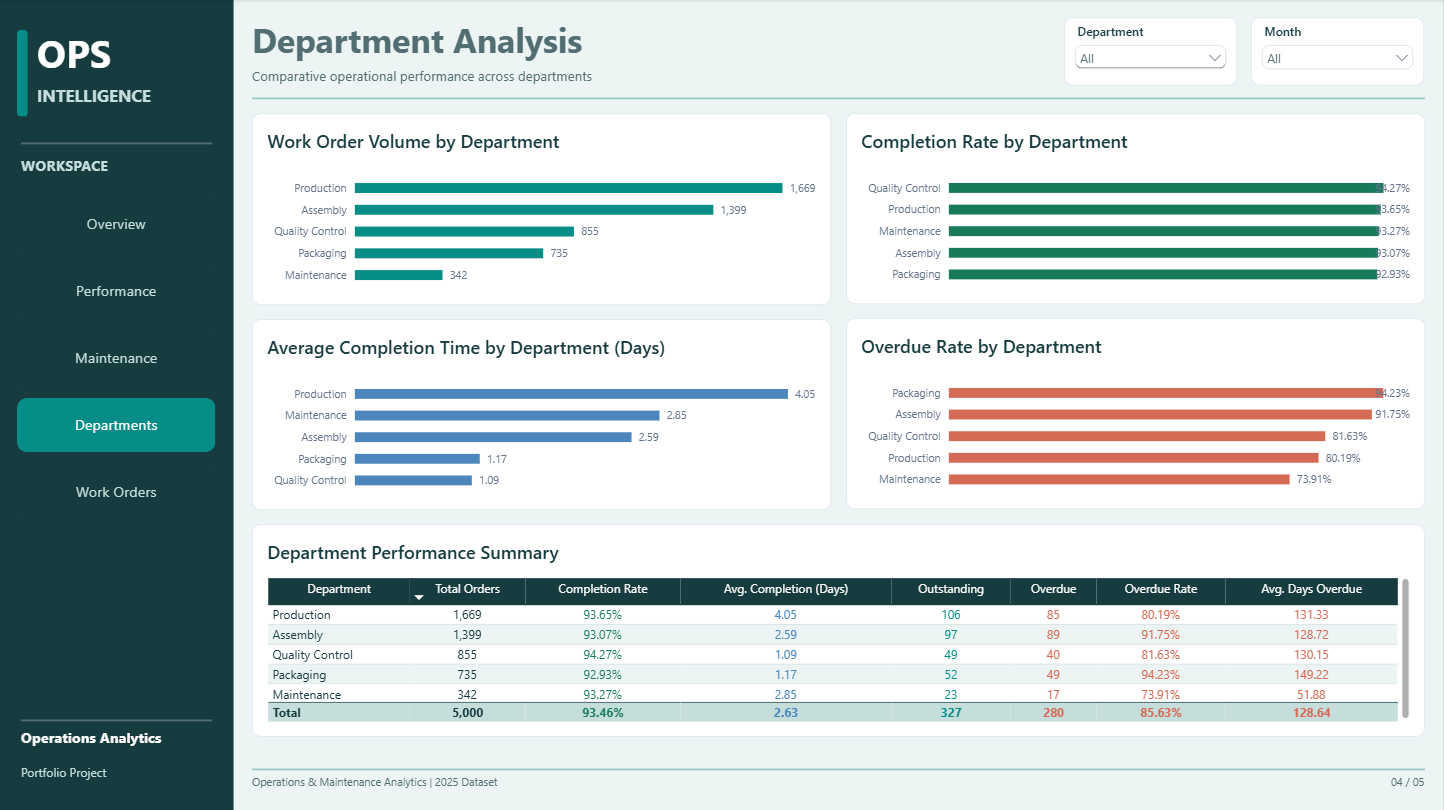

What the dashboard file says about the page in this screenshot:
{"tool":"powerbi","page":{"name":"04 - Department Analysis","canvas":[1600,900],"ordinal":3},"visuals":[{"type":"shape","title":"shpSidebarBackground","box":[0,0,260,900],"z":0},{"type":"shape","title":"shpBrandAccent","box":[20,34,12,96],"z":1000},{"type":"textbox","title":"txtBrandTitle","box":[42,30,194,64],"z":2000},{"type":"textbox","title":"txtBrandSubtitle","box":[42,94,194,36],"z":3000},{"type":"shape","title":"shpSidebarDividerTop","box":[24,154,212,12],"z":4000},{"type":"textbox","title":"txtWorkspaceLabel","box":[24,174,212,36],"z":5000},{"type":"shape","title":"shpSidebarDividerBottom","box":[24,794,212,12],"z":6000},{"type":"textbox","title":"txtSidebarFooterTitle","box":[24,808,212,40],"z":7000},{"type":"textbox","title":"txtSidebarFooterSubtitle","box":[24,848,212,36],"z":8000},{"type":"textbox","title":"txtPageTitle","box":[280,20,880,60],"z":9000},{"type":"textbox","title":"txtPageSubtitle","box":[280,75.7,682.9,32.9],"z":10000},{"type":"shape","title":"shpHeaderDivider","box":[280,104,1300,12],"z":11000},{"type":"shape","title":"shpFooterDivider","box":[280,848,1300,12],"z":12000},{"type":"textbox","title":"txtFooterDescription","box":[280,858,1060,32],"z":13000},{"type":"textbox","title":"txtPageNumber","box":[1400,858,180,32],"z":14000},{"type":"actionButton","title":"btnNavWorkOrders","box":[20,516,220,60],"z":15000},{"type":"actionButton","title":"btnNavDepartments","box":[20,442,220,60],"z":16000},{"type":"actionButton","title":"btnNavMaintenance","box":[20,368,220,60],"z":17000},{"type":"actionButton","title":"btnNavPerformance","box":[20,294,220,60],"z":18000},{"type":"actionButton","title":"btnNavOverview","box":[20,220,220,60],"z":19000},{"type":"slicer","title":"slcDepartment","fields":{"Values":["Departments.Department"]},"box":[1180,20,192,76],"z":20000},{"type":"slicer","title":"slcMonth","fields":{"Values":["Calendar.Month Year"]},"box":[1388,20,192,76],"z":21000},{"type":"clusteredBarChart","title":"Work Order Volume by Department","fields":{"Category":["Departments.Department"],"Y":["_Measures.Total Work Orders"]},"box":[280,126,642,212.9],"z":22000},{"type":"clusteredBarChart","title":"Completion Rate by Department","fields":{"Category":["Departments.Department"],"Y":["_Measures.Completion Rate"]},"box":[938.6,126,642,212],"z":23000},{"type":"clusteredBarChart","title":"Average Completion Time by Department (Days)","fields":{"Category":["Departments.Department"],"Y":["_Measures.Average Completion Time"]},"box":[280,354.3,642,212],"z":24000},{"type":"clusteredBarChart","title":"Overdue Rate by Department","fields":{"Category":["Departments.Department"],"Y":["_Measures.Overdue Rate"]},"box":[938.6,354,642,212],"z":25000},{"type":"tableEx","title":"Department Performance Summary","fields":{"Values":["Departments.Department","_Measures.Total Work Orders","_Measures.Completion Rate","_Measures.Average Completion Time","_Measures.Outstanding Work Orders","_Measures.Overdue Work Orders","_Measures.Overdue Rate","_Measures.Average Days Overdue"]},"box":[280,582,1300,236],"z":26000}]}

Visuals, with their boxes in screenshot pixels (x1, y1, x2, y2), scaled from the page's 1600x900 canvas onto the 1444x810 screenshot:
"shpSidebarBackground" shape: region(0, 0, 235, 809)
"shpBrandAccent" shape: region(18, 31, 29, 117)
"txtBrandTitle" textbox: region(38, 27, 213, 85)
"txtBrandSubtitle" textbox: region(38, 85, 213, 117)
"shpSidebarDividerTop" shape: region(22, 139, 213, 149)
"txtWorkspaceLabel" textbox: region(22, 157, 213, 189)
"shpSidebarDividerBottom" shape: region(22, 715, 213, 725)
"txtSidebarFooterTitle" textbox: region(22, 727, 213, 763)
"txtSidebarFooterSubtitle" textbox: region(22, 763, 213, 796)
"txtPageTitle" textbox: region(253, 18, 1047, 72)
"txtPageSubtitle" textbox: region(253, 68, 869, 98)
"shpHeaderDivider" shape: region(253, 94, 1426, 104)
"shpFooterDivider" shape: region(253, 763, 1426, 774)
"txtFooterDescription" textbox: region(253, 772, 1209, 801)
"txtPageNumber" textbox: region(1264, 772, 1426, 801)
"btnNavWorkOrders" actionButton: region(18, 464, 217, 518)
"btnNavDepartments" actionButton: region(18, 398, 217, 452)
"btnNavMaintenance" actionButton: region(18, 331, 217, 385)
"btnNavPerformance" actionButton: region(18, 265, 217, 319)
"btnNavOverview" actionButton: region(18, 198, 217, 252)
"slcDepartment" slicer: region(1065, 18, 1238, 86)
"slcMonth" slicer: region(1253, 18, 1426, 86)
"Work Order Volume by Department" clusteredBarChart: region(253, 113, 832, 305)
"Completion Rate by Department" clusteredBarChart: region(847, 113, 1426, 304)
"Average Completion Time by Department (Days)" clusteredBarChart: region(253, 319, 832, 510)
"Overdue Rate by Department" clusteredBarChart: region(847, 319, 1426, 509)
"Department Performance Summary" tableEx: region(253, 524, 1426, 736)
